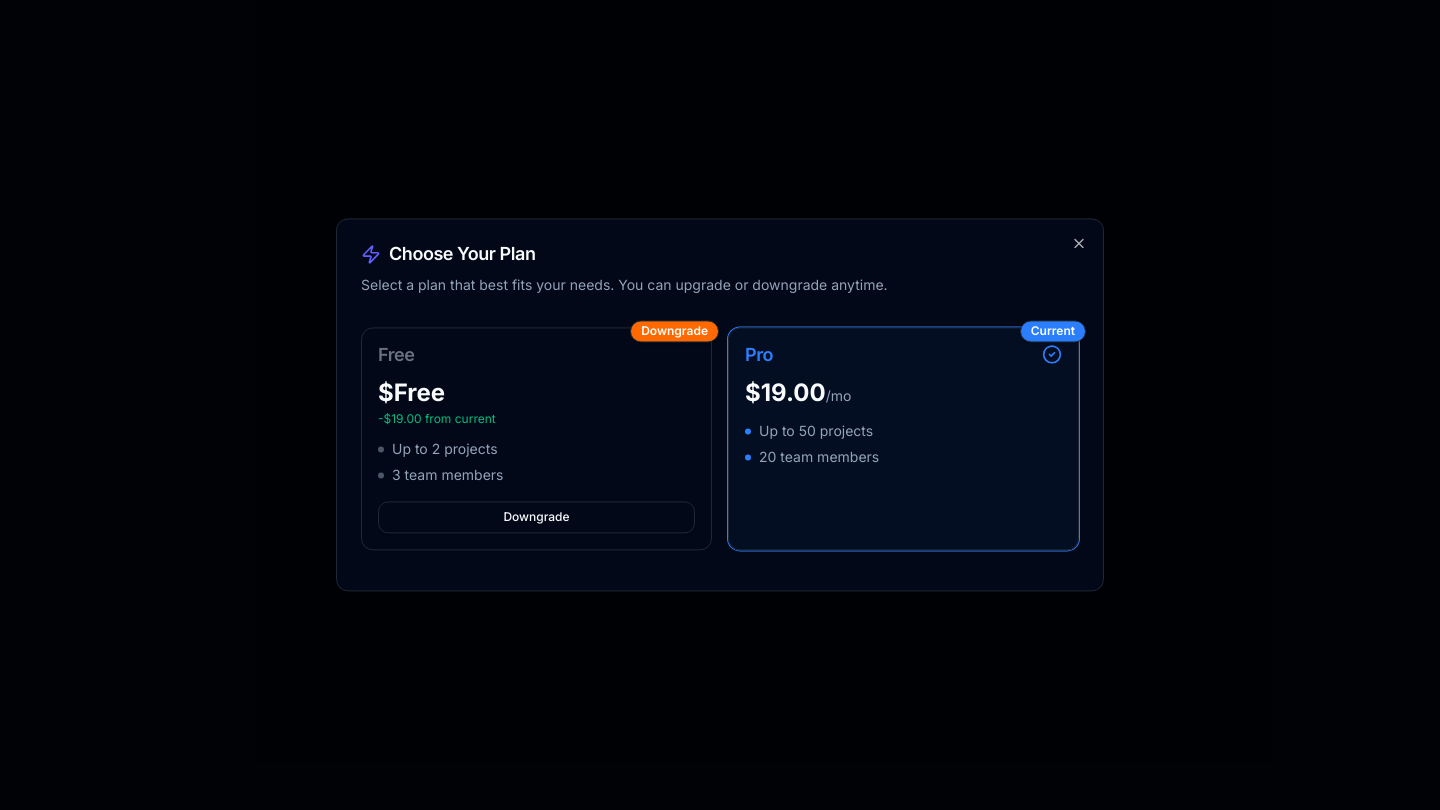
settings behavior › reuses fresh downgrade eligibility checks
Click the button "Downgrade" at (536, 518), box x1=378 y1=502 x2=695 y2=534
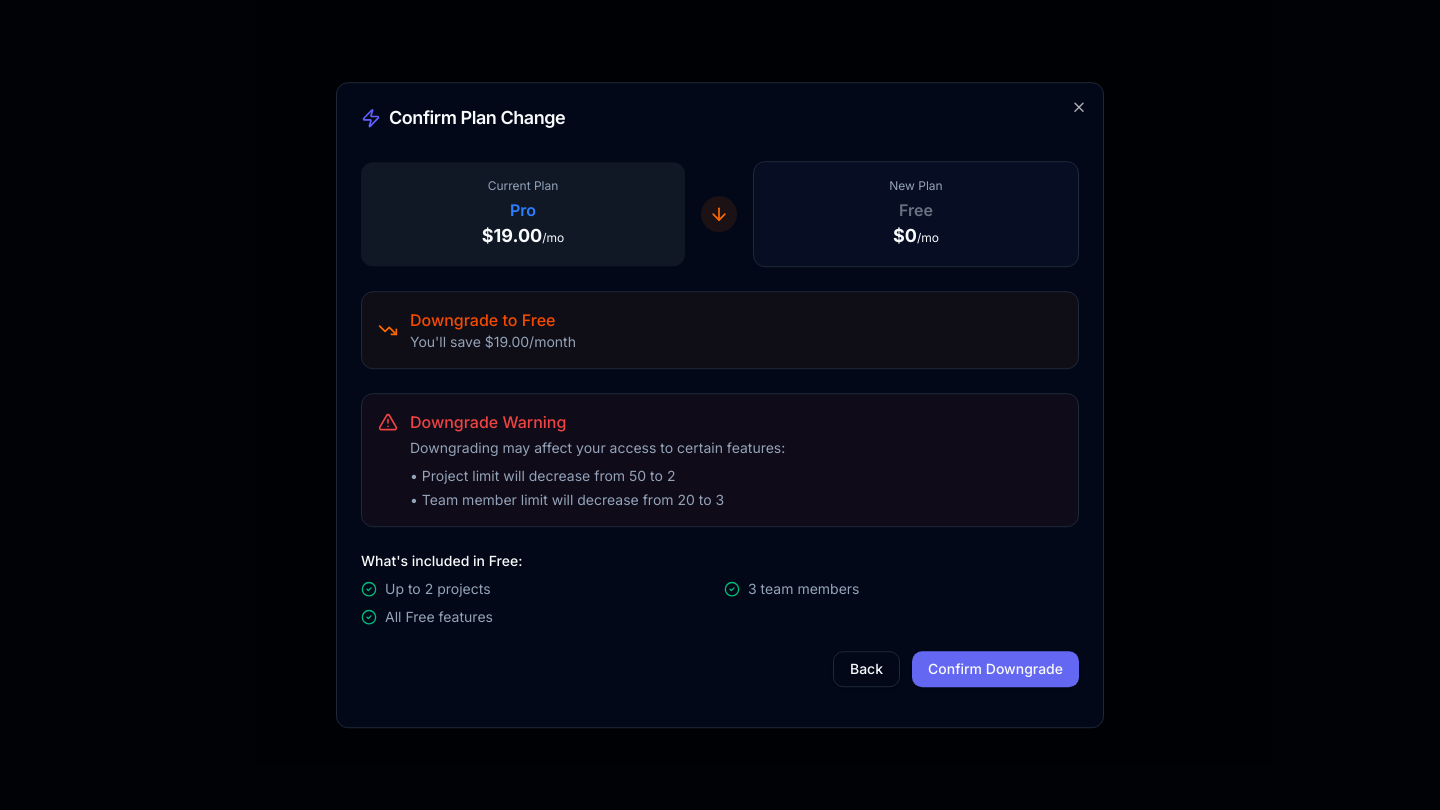
Click the button "Back" at (866, 669), box x1=833 y1=651 x2=900 y2=687
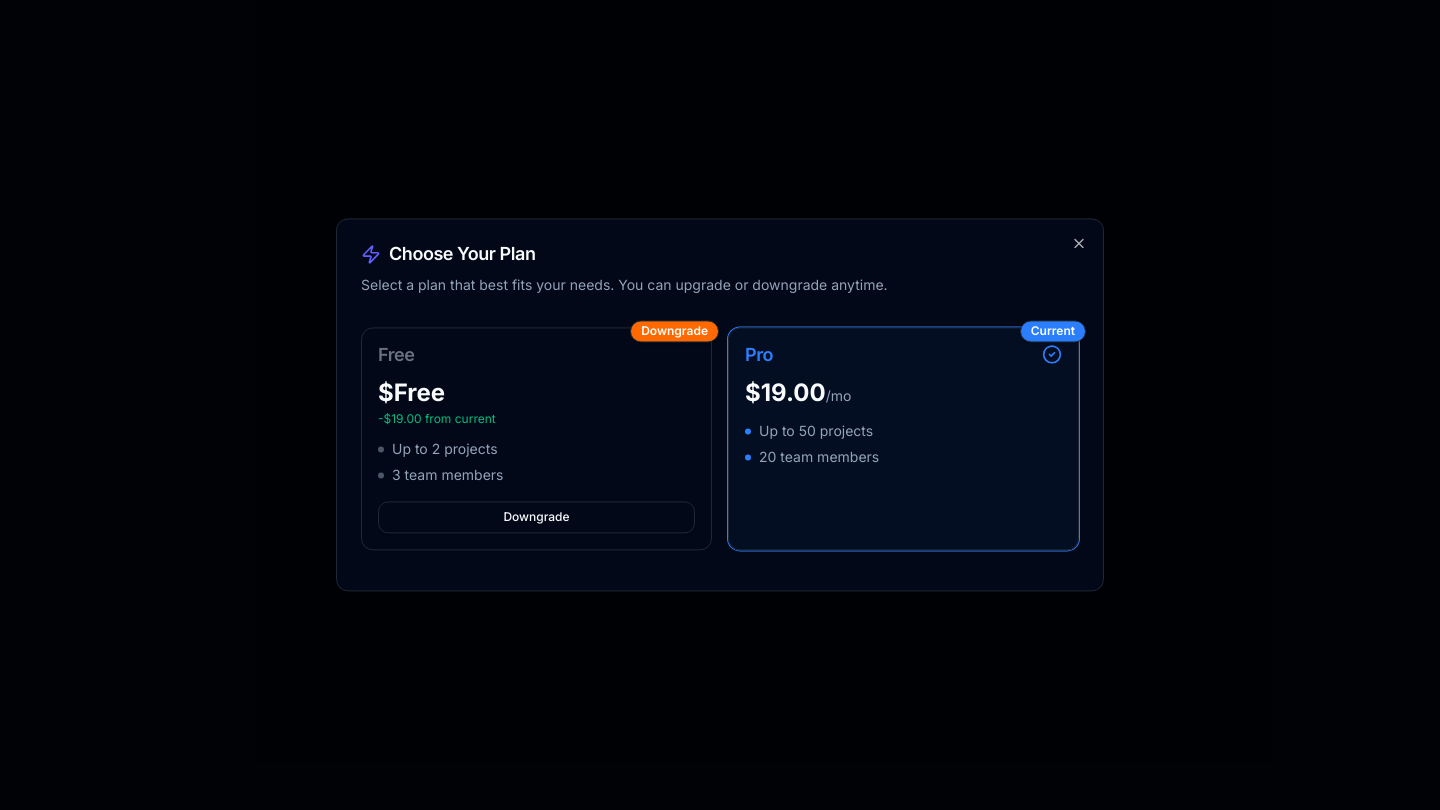
Click the button "Downgrade" at (536, 518), box x1=378 y1=502 x2=695 y2=534
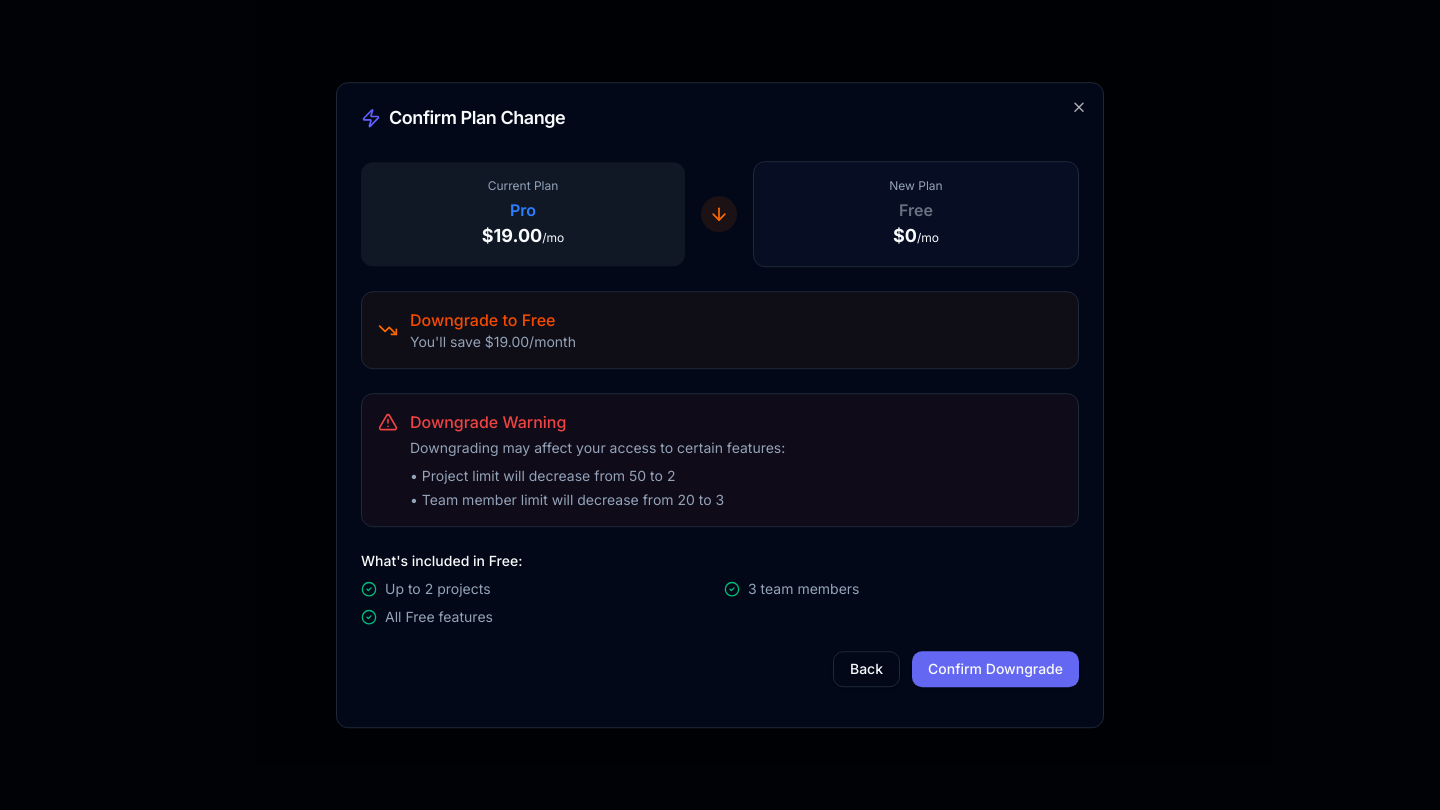
Check: the button "Back" is shown, box x1=833 y1=651 x2=900 y2=687
